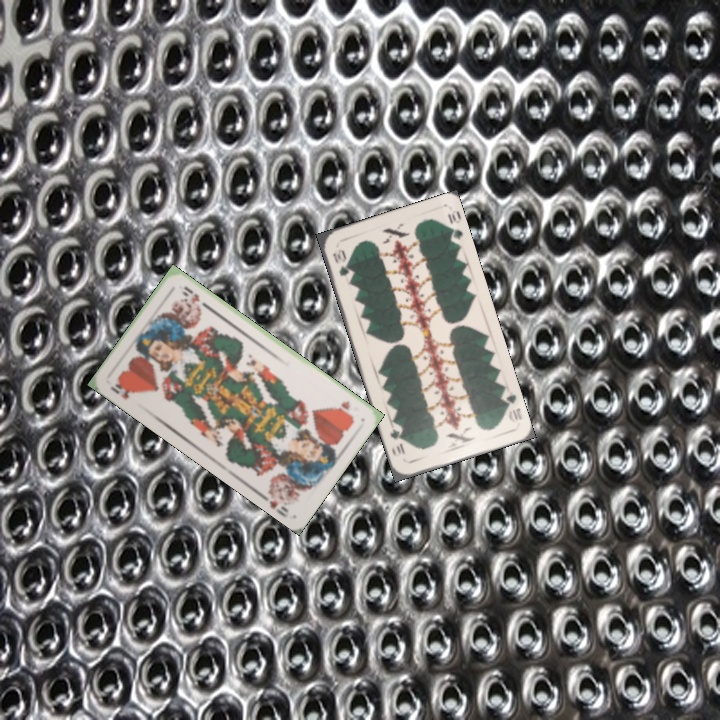G10: (497, 388, 524, 425), (329, 245, 352, 279)
HO: (106, 379, 136, 402), (335, 396, 357, 420)
